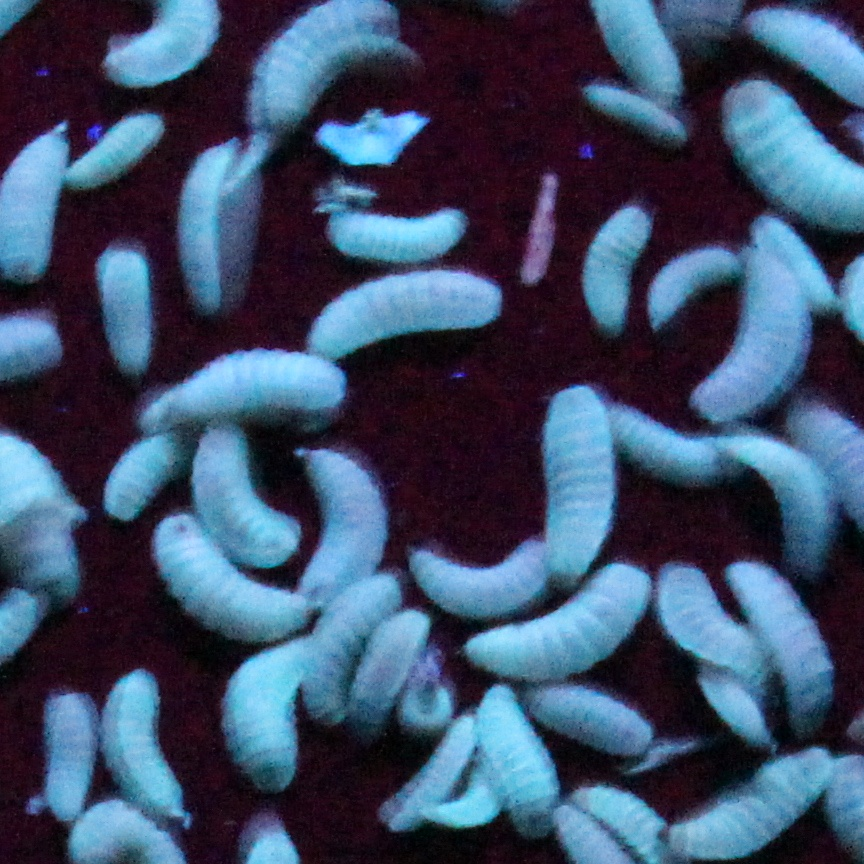larve: (149, 506, 317, 642), (726, 556, 855, 717), (187, 406, 305, 576), (464, 572, 642, 681), (537, 376, 624, 581), (719, 431, 835, 574), (101, 663, 196, 831), (299, 281, 503, 356), (653, 558, 769, 683), (151, 356, 351, 426), (301, 435, 385, 601), (403, 538, 560, 626), (610, 397, 767, 481), (221, 642, 308, 785), (301, 578, 392, 713), (474, 688, 558, 833), (387, 710, 480, 822), (1, 117, 60, 290), (580, 197, 651, 331), (317, 201, 474, 260), (185, 144, 239, 303), (342, 615, 437, 703), (646, 244, 744, 328), (96, 249, 158, 378), (69, 113, 167, 192), (583, 85, 696, 151), (533, 690, 660, 747), (46, 681, 92, 835), (762, 215, 835, 306), (103, 431, 178, 519), (705, 678, 767, 742), (455, 769, 487, 842)
